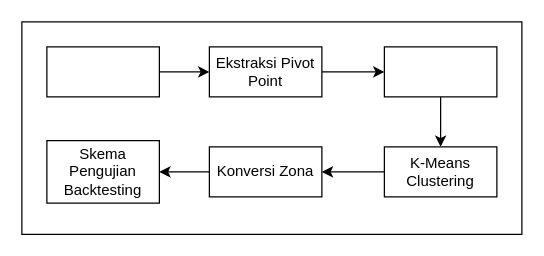
Some shapes in this 544 by 256 pixel diagram are drawn without their labels. The shapes that lost their labels are listed below. From the top down, each one's centre as x and y in pixels, then its label:
At (102,71): "Ambil Data & Penyaringan".
At (440,71): "Standarisasi Z-Score".
